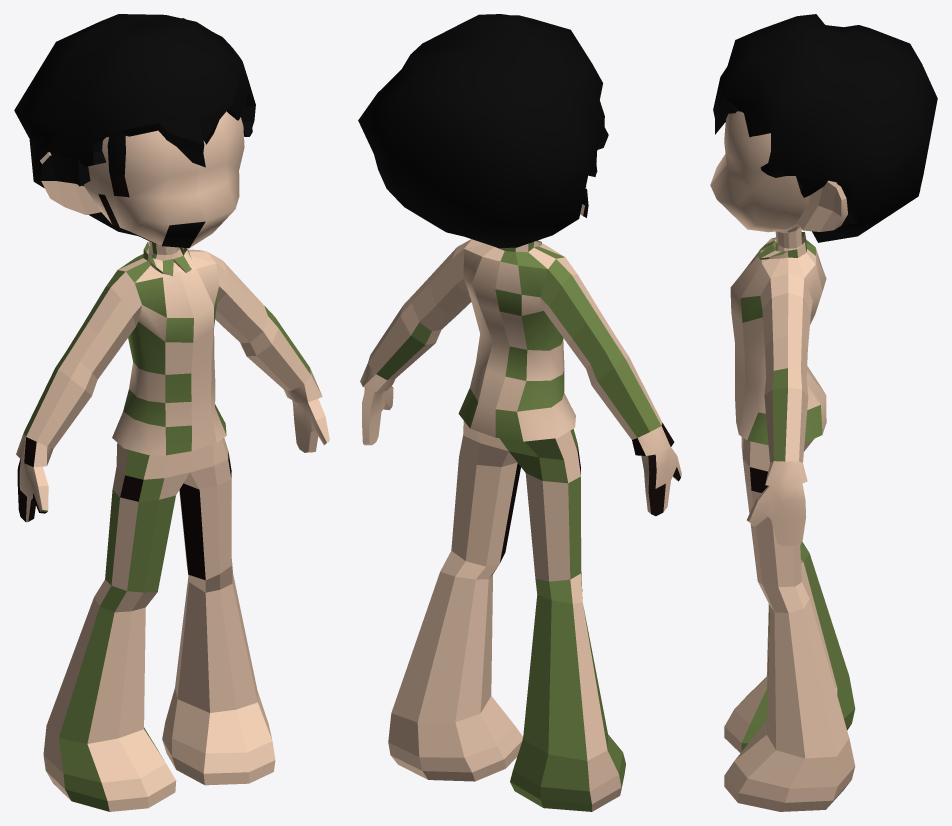
File: james.fbx
3 views of the same model, side by side, from view 1: azimuth 30°, elevation 25°; view 2: azimuth 150°, elevation 25°; view 3: azimuth 270°, elevation 25° (orthographic). The views are drawn at different scales.
Parts seen in each view (by area): view 1: cuerpo, pelo; view 2: cuerpo, pelo; view 3: cuerpo, pelo.
Part boxes in pixels (x1,y1,x2,y2): cuerpo: (16, 111, 329, 811); pelo: (14, 14, 255, 235); cuerpo: (360, 185, 681, 811); pelo: (358, 14, 608, 248); cuerpo: (710, 111, 855, 811); pelo: (713, 14, 937, 242).
Size of the model in its own units: 62.8 by 151 by 42.14.
